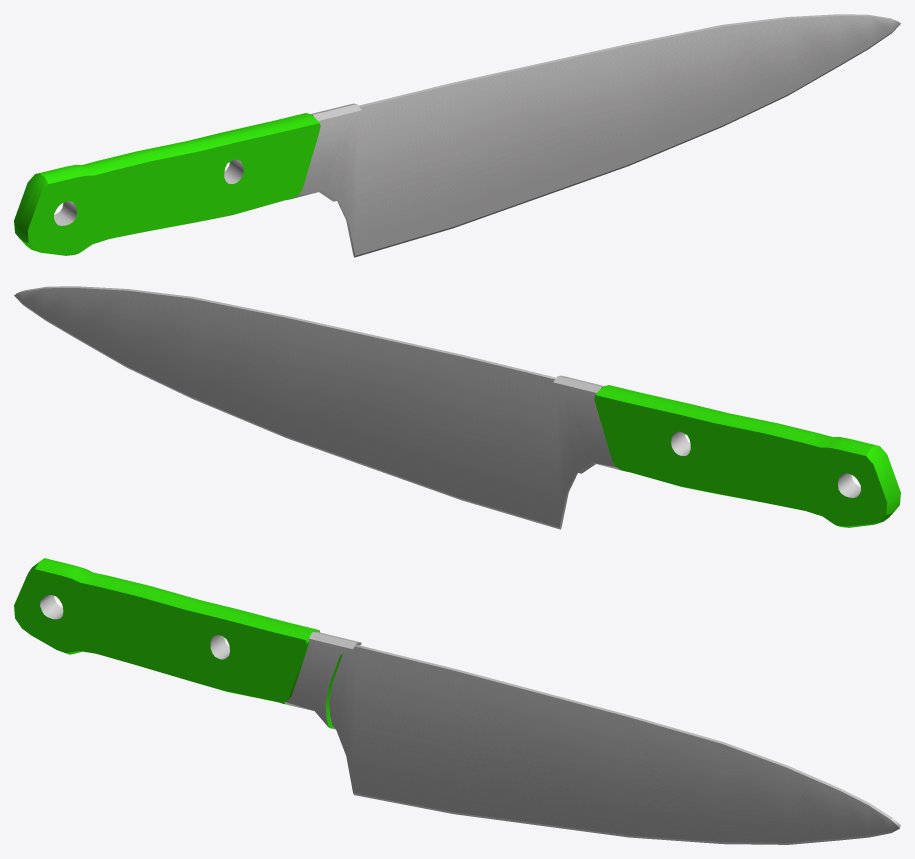
Rendered from KNIFE_04.FBX.
3 renders of one model, top to bottom at view 1: azimuth 30°, elevation 25°; view 2: azimuth 150°, elevation 25°; view 3: azimuth 330°, elevation 25°, orthographic.
Visible parts, largest first — view 1: Plane008; view 2: Plane008; view 3: Plane008.
Part boxes in pixels (<box>): Plane008: <box>14,14,900,257</box>; Plane008: <box>14,286,900,529</box>; Plane008: <box>14,558,900,844</box>.
Bounding box in the file's own units: 126 × 21.82 × 3.42.
Materials: 3 (1 with a texture image).
